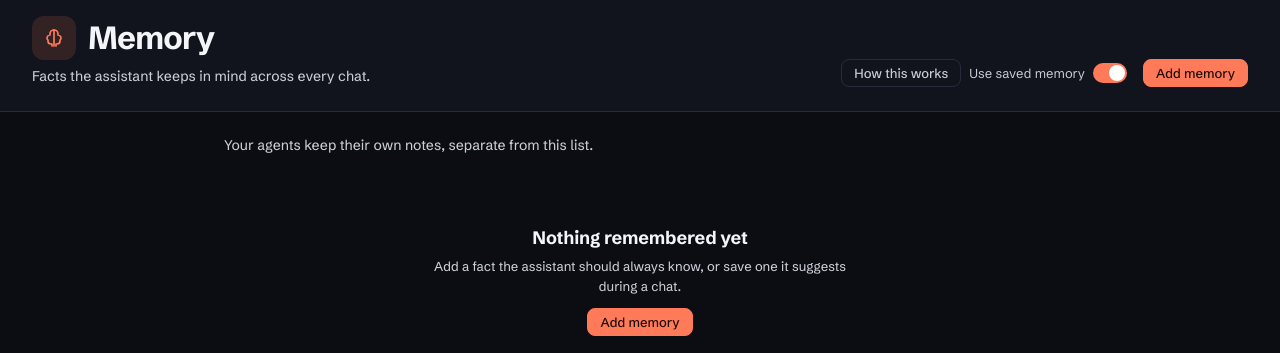
Test: MemoryPage › shows the empty state and adds a memory from it
Click the button "Add memory" below "Nothing remembered yet" at (640, 322), box [588,308,692,336]
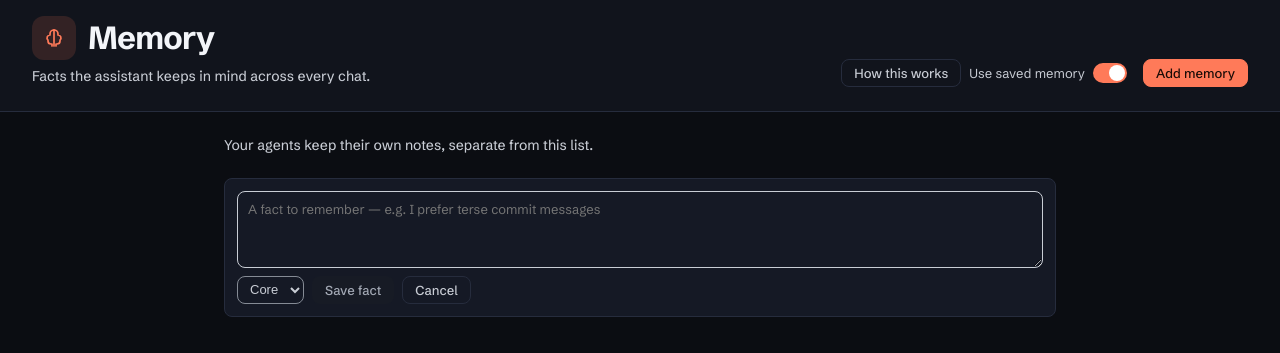
Check: the button "Save fact" is disabled, box [312,276,394,304]
Type "  I prefer terse commit messages " into the text box named "New memory" at (640, 229), box [237,191,1043,268]
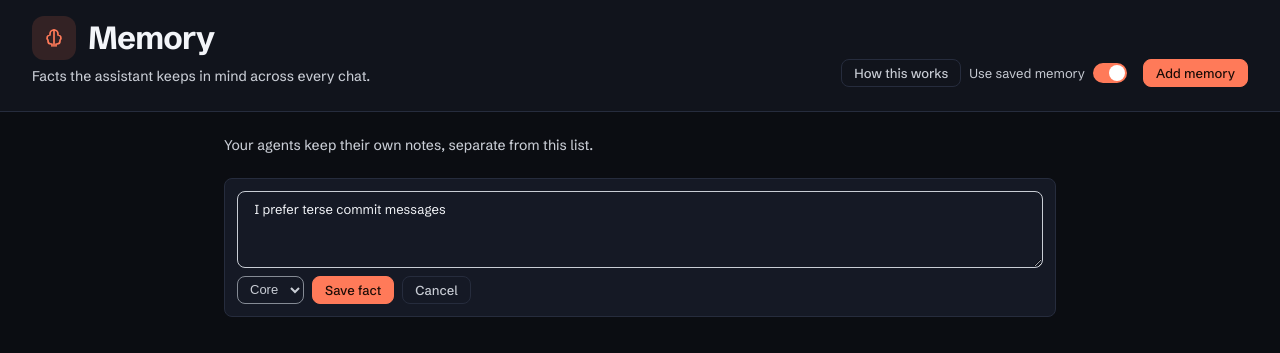
Select "Note" in the dropdown named "Memory kind" at (270, 290), box [237,276,304,304]
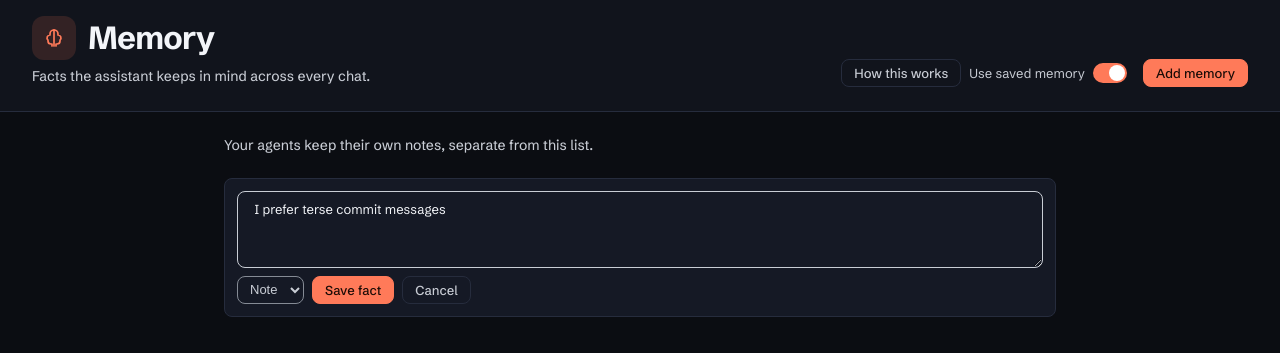
Click the button "Save fact" at (353, 290), box [312,276,394,304]
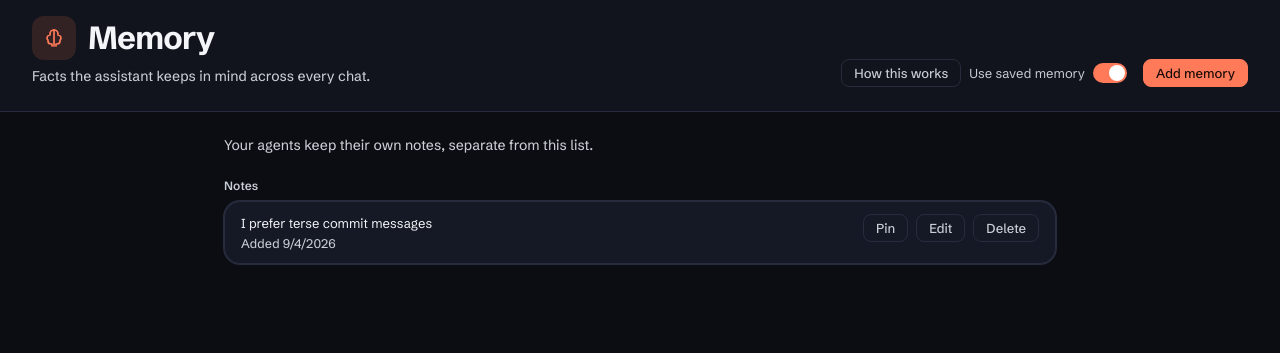
Check: the text "I prefer terse commit messages" is shown, box [241,215,432,231]
